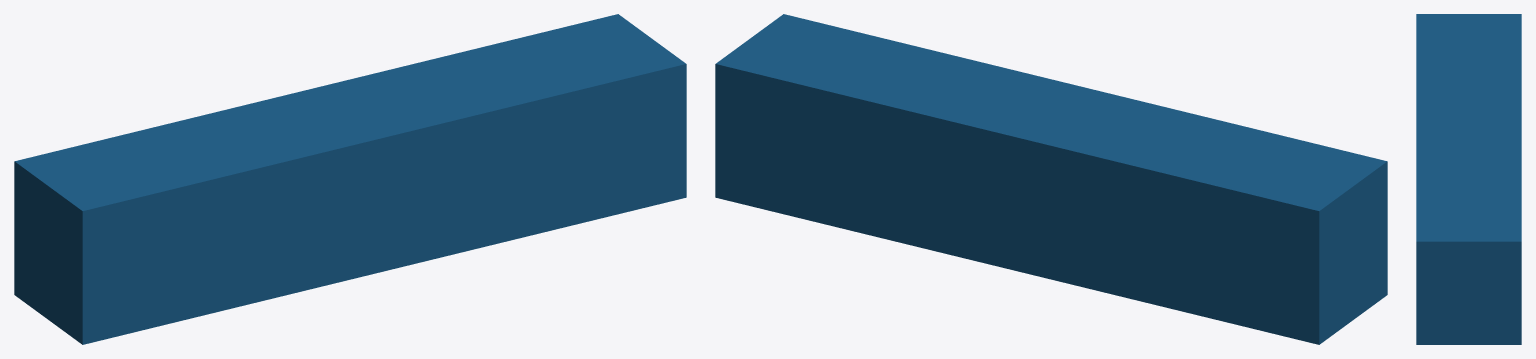
File: container40_dry.dae
3 renders of one model, left to right at view 1: azimuth 30°, elevation 25°; view 2: azimuth 150°, elevation 25°; view 3: azimuth 270°, elevation 25°, orthographic. The views are drawn at different scales.
Parts seen in each view (by area): view 1: corrugated_shell; view 2: corrugated_shell; view 3: corrugated_shell.
Boxes of the visible parts, x1,y1,x2,y2 form: corrugated_shell: [14, 14, 686, 344]; corrugated_shell: [715, 14, 1387, 344]; corrugated_shell: [1416, 14, 1521, 344].
Bounding box in the file's own units: 12.05 × 2.36 × 2.55.
